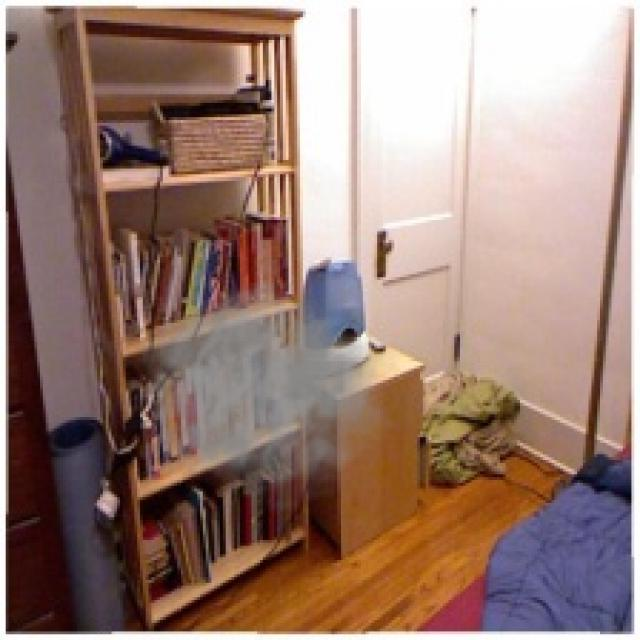smoke: (137, 280, 400, 514)
